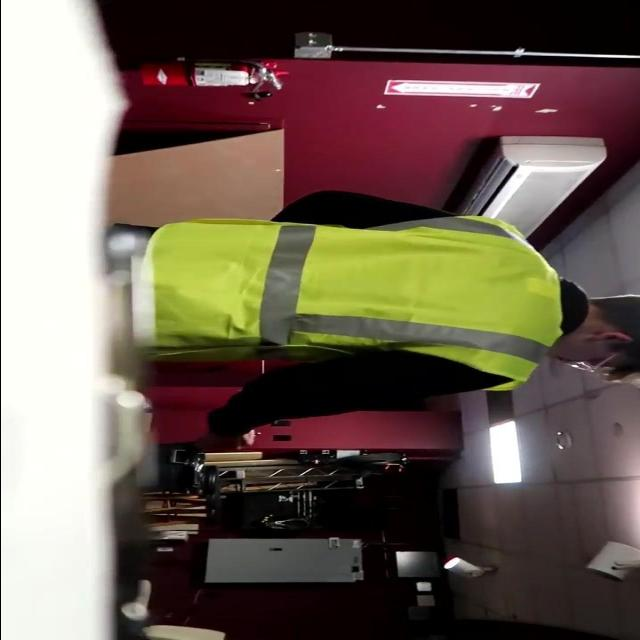jacket: (148, 207, 568, 396)
